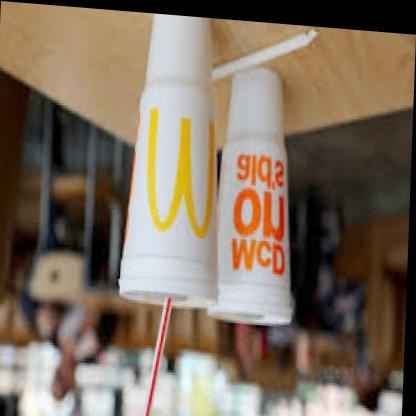trash: (120, 15, 215, 306), (209, 67, 292, 324)
